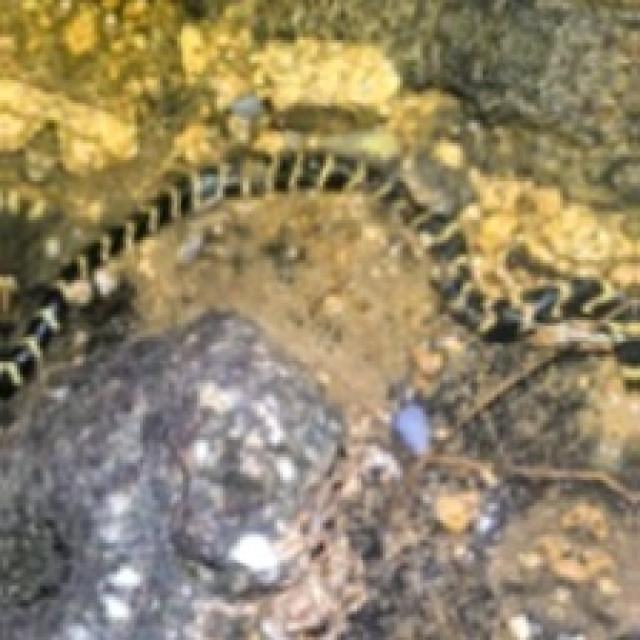king cobra: (54, 69, 637, 411)
